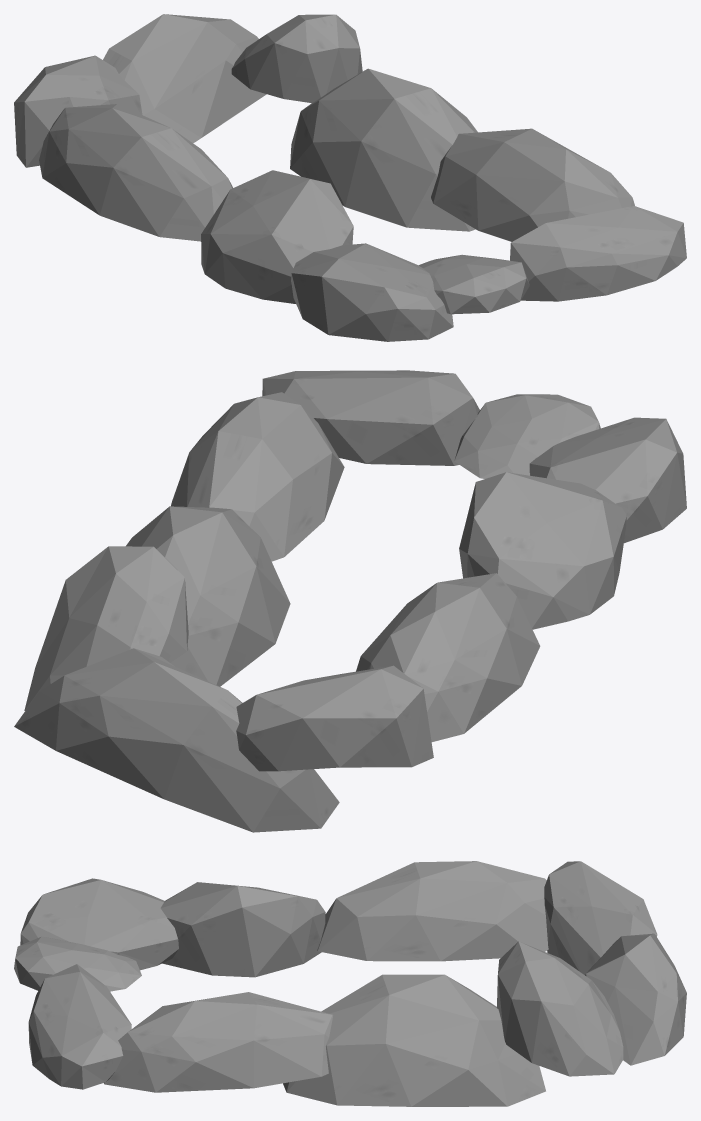
File: Grave2.gltf
3 views of the same model, one above another, from view 1: azimuth 30°, elevation 25°; view 2: azimuth 150°, elevation 25°; view 3: azimuth 270°, elevation 25° (orthographic). The views are drawn at different scales.
Visible parts, largest first — view 1: Vlakgraf.002; view 2: Vlakgraf.002; view 3: Vlakgraf.002.
Boxes of the visible parts, left/top/right/bottom form: Vlakgraf.002: left=14, top=14, right=686, bottom=341; Vlakgraf.002: left=14, top=370, right=686, bottom=832; Vlakgraf.002: left=14, top=861, right=686, bottom=1106.
Size of the model in its own units: 3.44 by 1.23 by 5.32.
4 materials, 4 textured.
